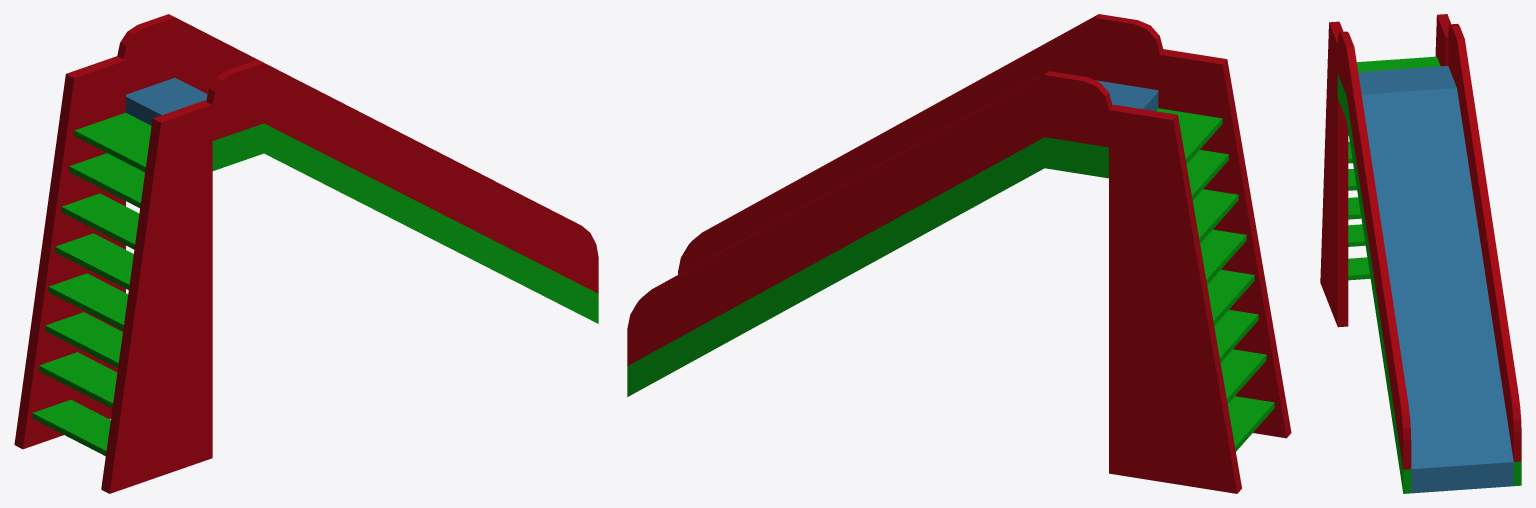
File: slide.glb
The picture shows the model from 3 angles, left to right: view 1: azimuth 30°, elevation 25°; view 2: azimuth 150°, elevation 25°; view 3: azimuth 270°, elevation 25°; orthographic projection. The views are drawn at different scales.
Size of the model in its own units: 15.58 by 10 by 6.04.
